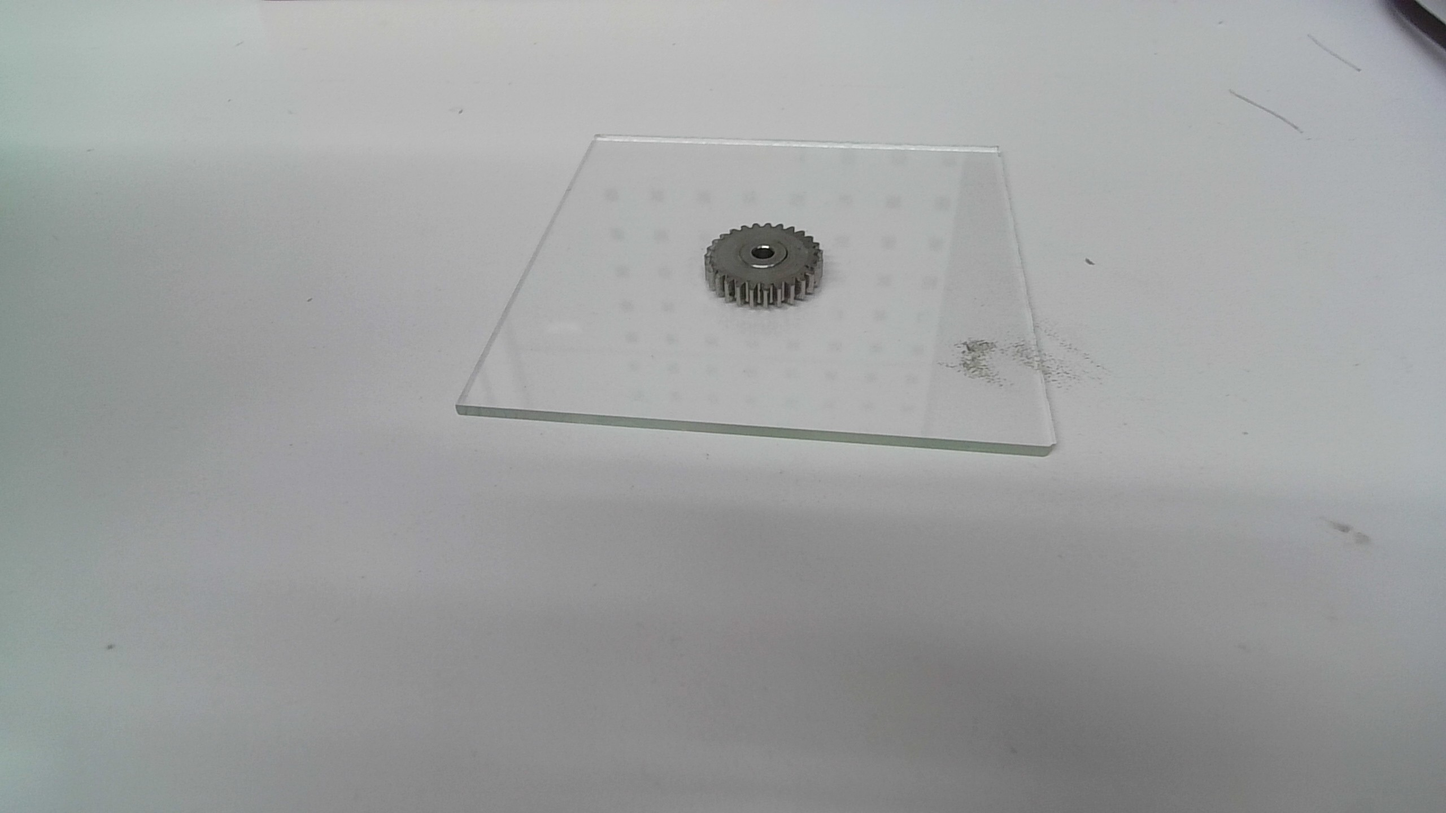gear: (701, 219, 826, 309)
